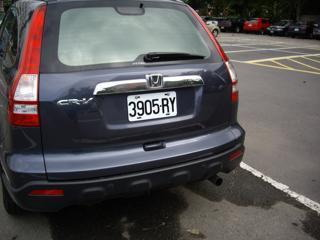plate: (124, 91, 179, 120)
